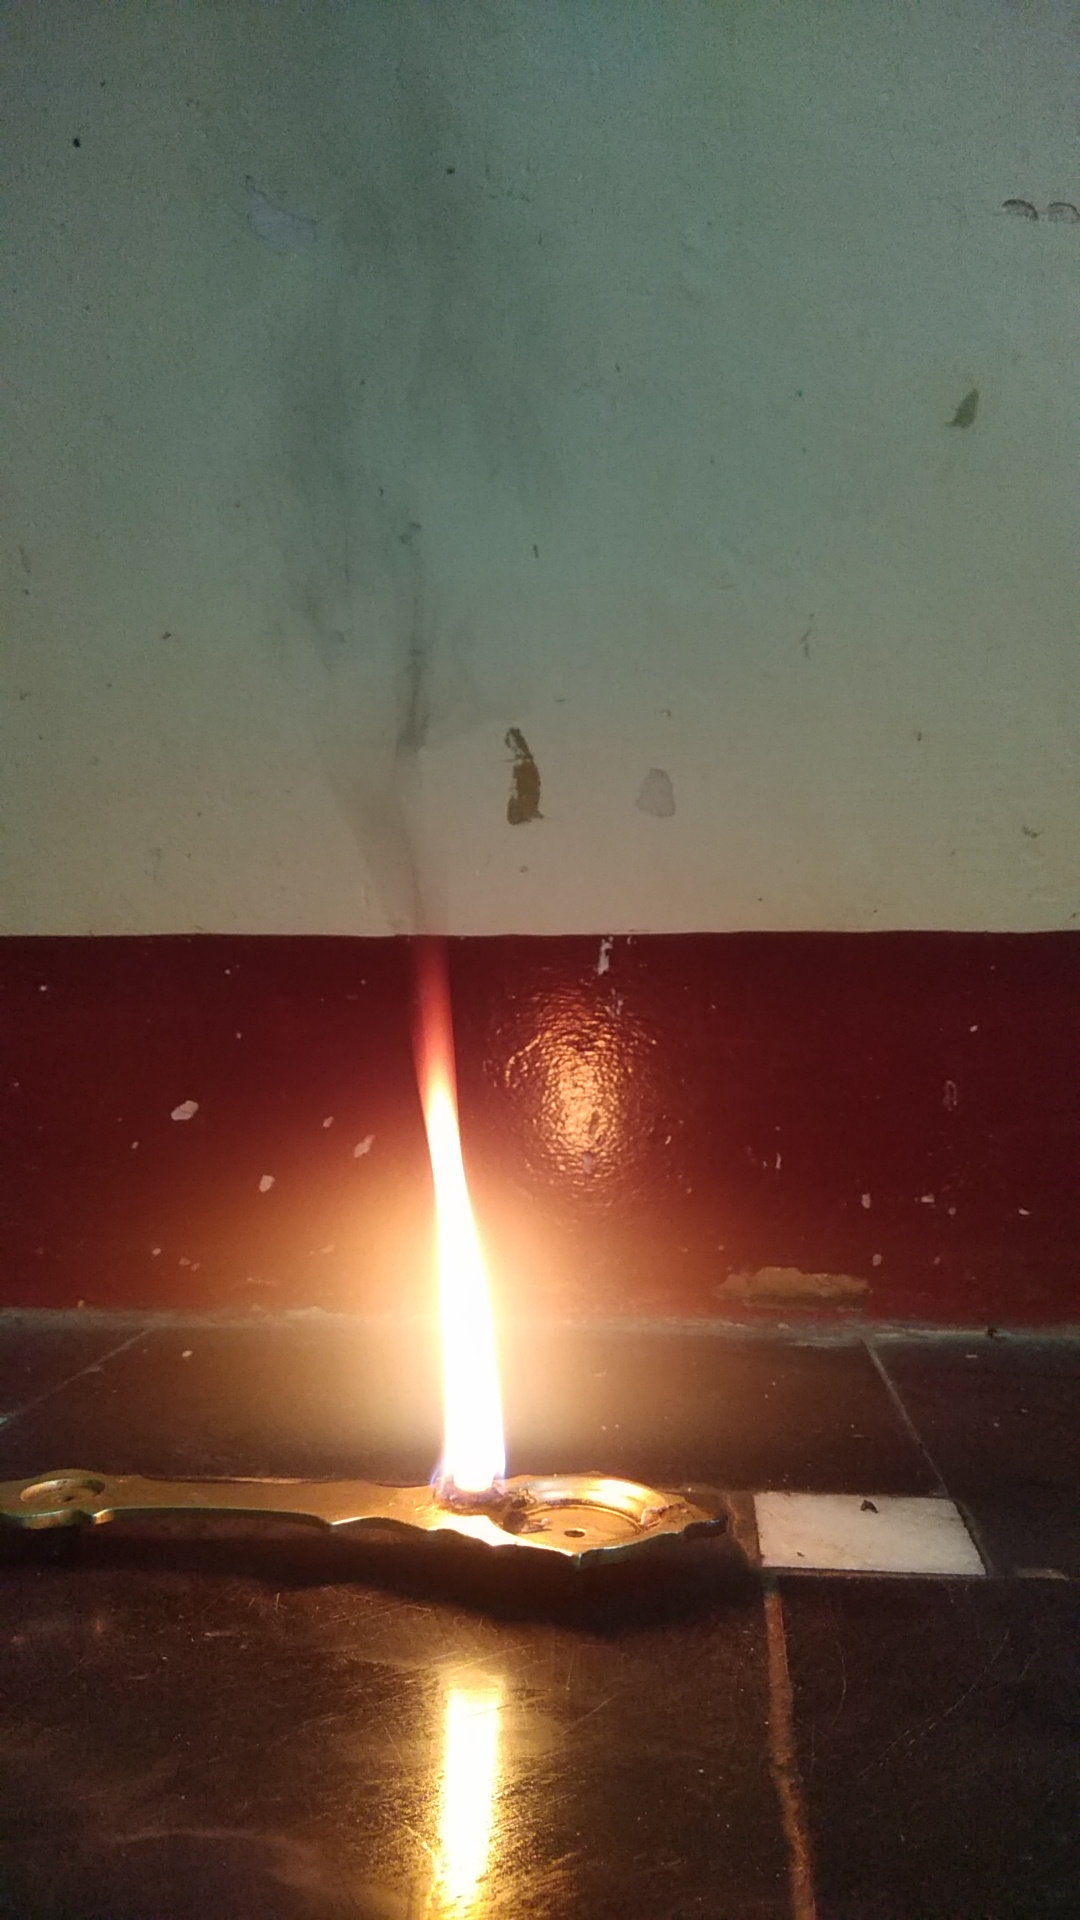Fire: (394, 1002, 545, 1524)
Smoke: (206, 37, 563, 934)
